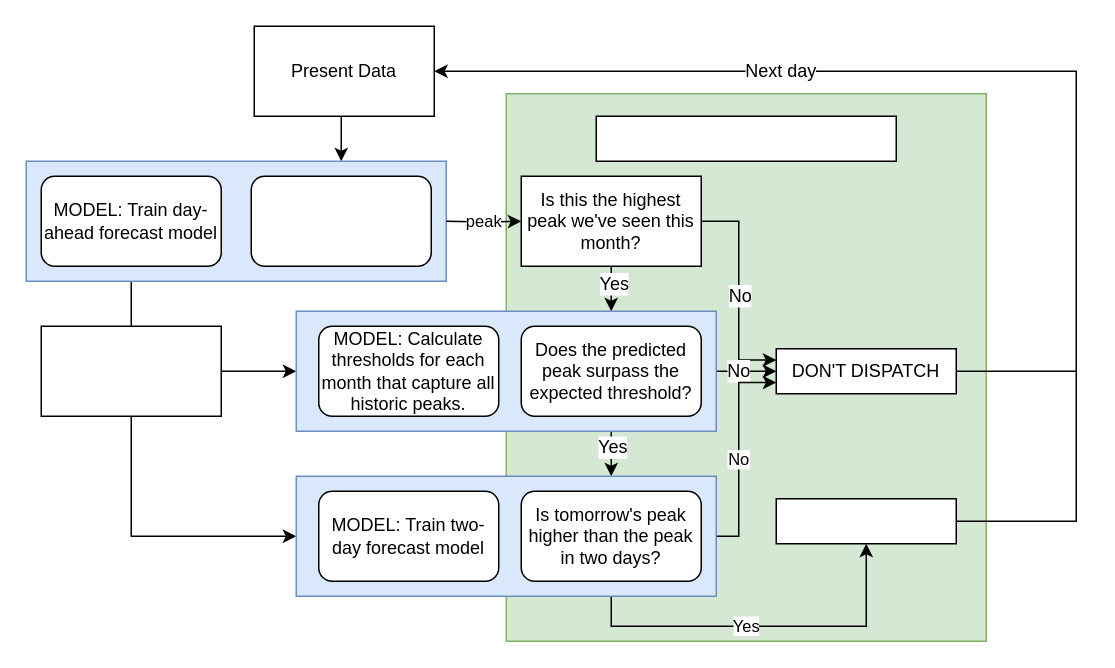
Some shapes in this 1115 by 668 pixel diagram are drawn without their labels. Each missing label, with the centre of its shape:
DISPATCH: pixel 865 520
Historical Data: pixel 130 370
SHOULD WE DISPATCH?: pixel 745 138
What is tomorrow's predicted peak?: pixel 340 220
